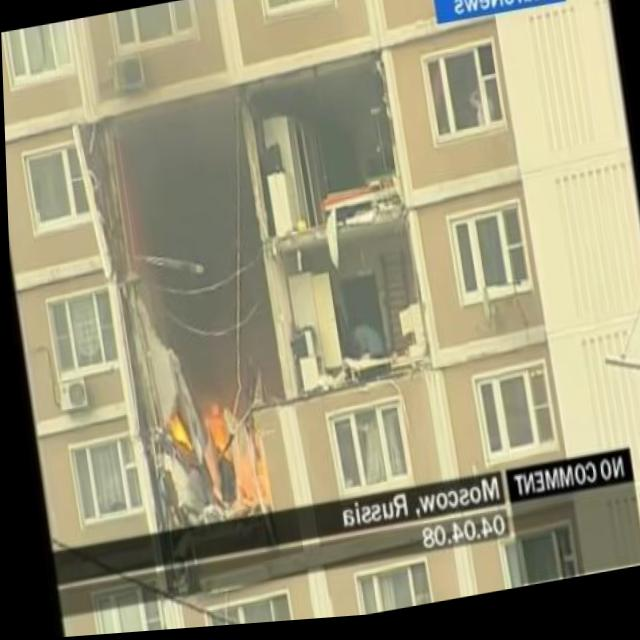fire: (194, 393, 234, 471), (160, 408, 187, 460)
